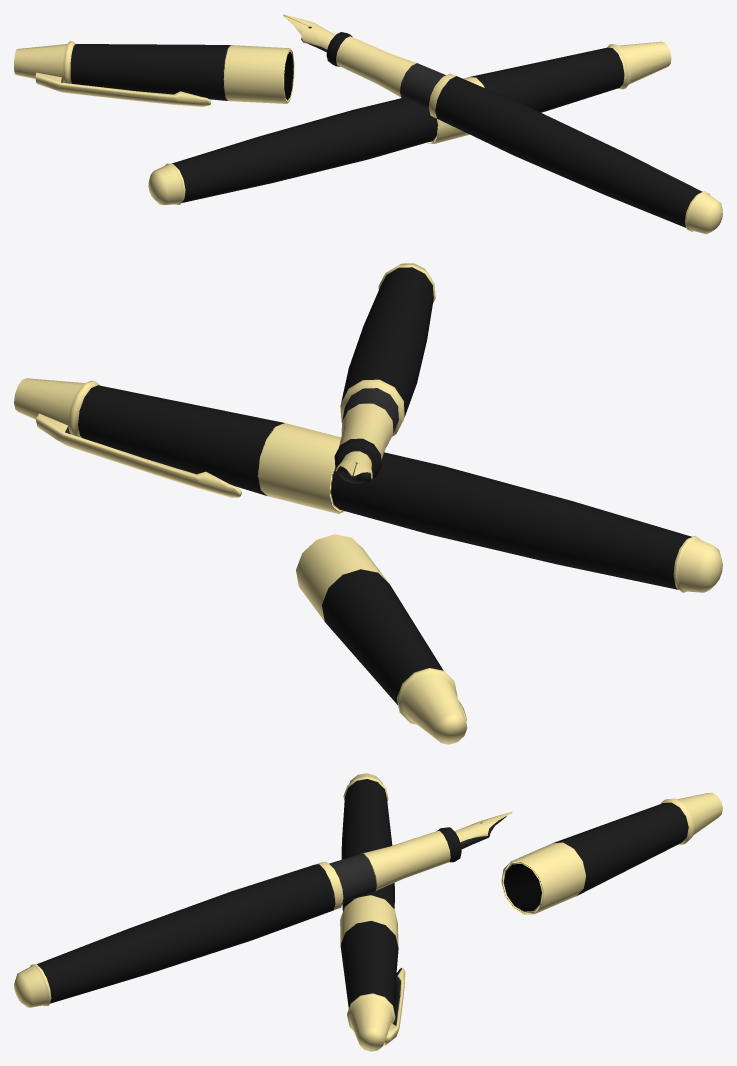
The model's file is fountain_pens.glb.
3 renders of one model, top to bottom at view 1: azimuth 30°, elevation 25°; view 2: azimuth 150°, elevation 25°; view 3: azimuth 270°, elevation 25°, orthographic. The views are drawn at different scales.
Visible parts, largest first — view 1: pen2_nib_low, pen2_cap_low, body_low, cap_low; view 2: body_low, cap_low, pen2_cap_low, pen2_nib_low, clip_low; view 3: pen2_nib_low, pen2_cap_low, cap_low, body_low, clip_low.
Boxes of the visible parts, x1,y1,x2,y2 form: pen2_nib_low: (283,14,722,234); pen2_cap_low: (14,41,294,106); body_low: (148,98,437,205); cap_low: (426,41,671,143); body_low: (331,452,722,592); cap_low: (14,378,345,513); pen2_cap_low: (296,534,467,744); pen2_nib_low: (334,263,435,484); clip_low: (36,413,241,497); pen2_nib_low: (14,812,512,1007); pen2_cap_low: (501,792,722,914); cap_low: (340,895,398,1051); body_low: (341,773,394,911); clip_low: (383,967,405,1045).
Size of the model in its own units: 20.76 by 3.7 by 23.86.
Materials: 1 (1 with a texture image).
